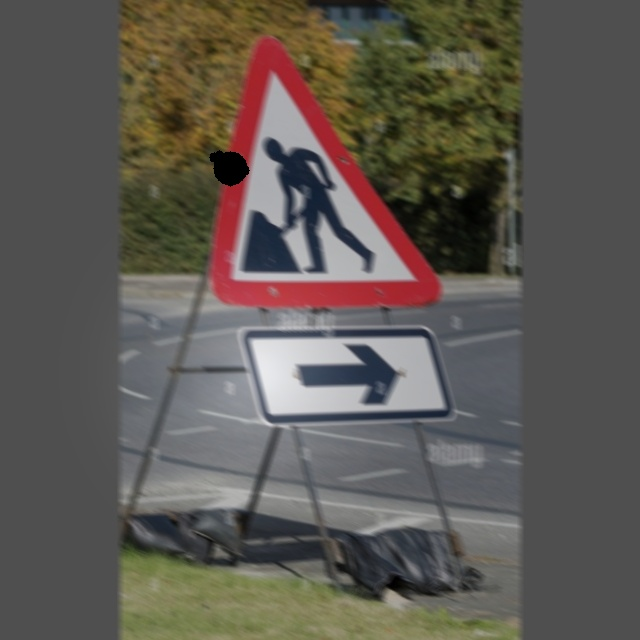Men_at_Work: (185, 38, 450, 308)
